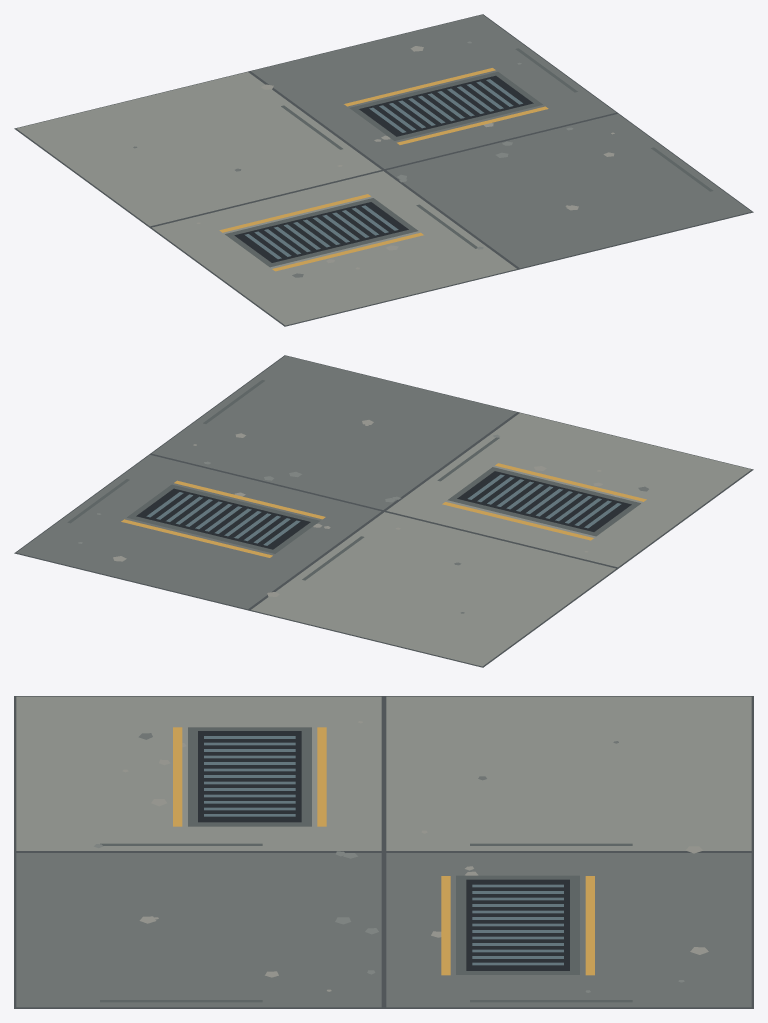
File: 03_Concrete_Drains.fbx
3 views of the same model, one above another, from view 1: azimuth 30°, elevation 25°; view 2: azimuth 150°, elevation 25°; view 3: azimuth 270°, elevation 25° (orthographic). The views are drawn at different scales.
Parts seen in each view (by area): view 1: 03_Concrete_Drains; view 2: 03_Concrete_Drains; view 3: 03_Concrete_Drains.
Part boxes in pixels (box(x1,y1,x2,y2)): 03_Concrete_Drains: box(14, 14, 753, 326); 03_Concrete_Drains: box(14, 355, 753, 667); 03_Concrete_Drains: box(14, 696, 753, 1008).
Size of the model in its own units: 800 by 2.1 by 800.
1 material, 1 textured.
